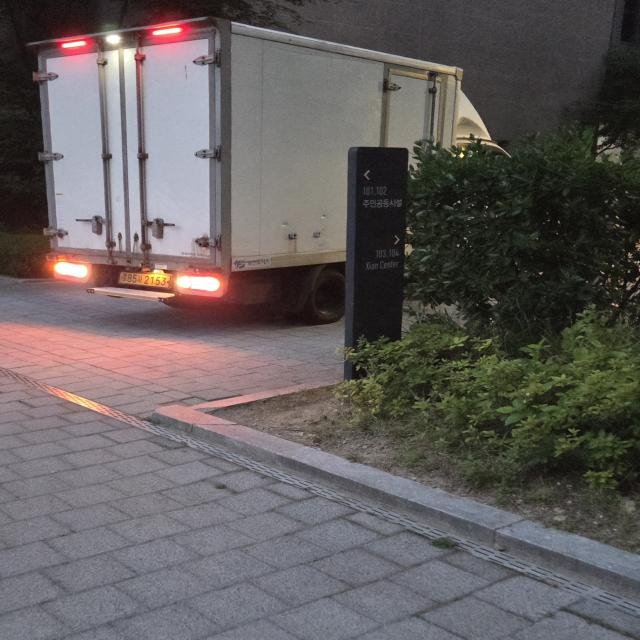car: (16, 16, 536, 332)
